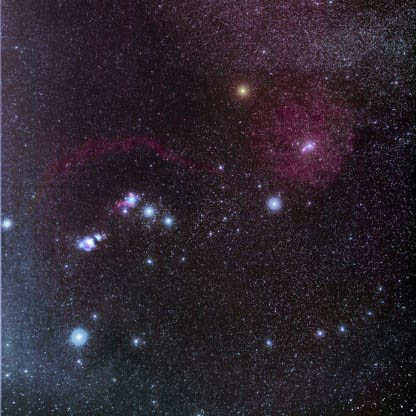Orion: (58, 314, 100, 358), (257, 190, 290, 217), (223, 77, 256, 103), (156, 211, 182, 233), (136, 201, 157, 226), (1, 213, 20, 235), (116, 190, 138, 209)
